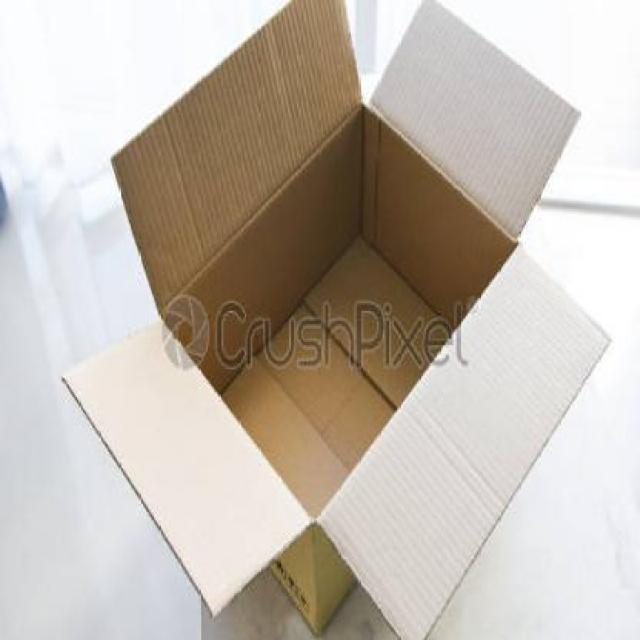box: (60, 0, 614, 640)
